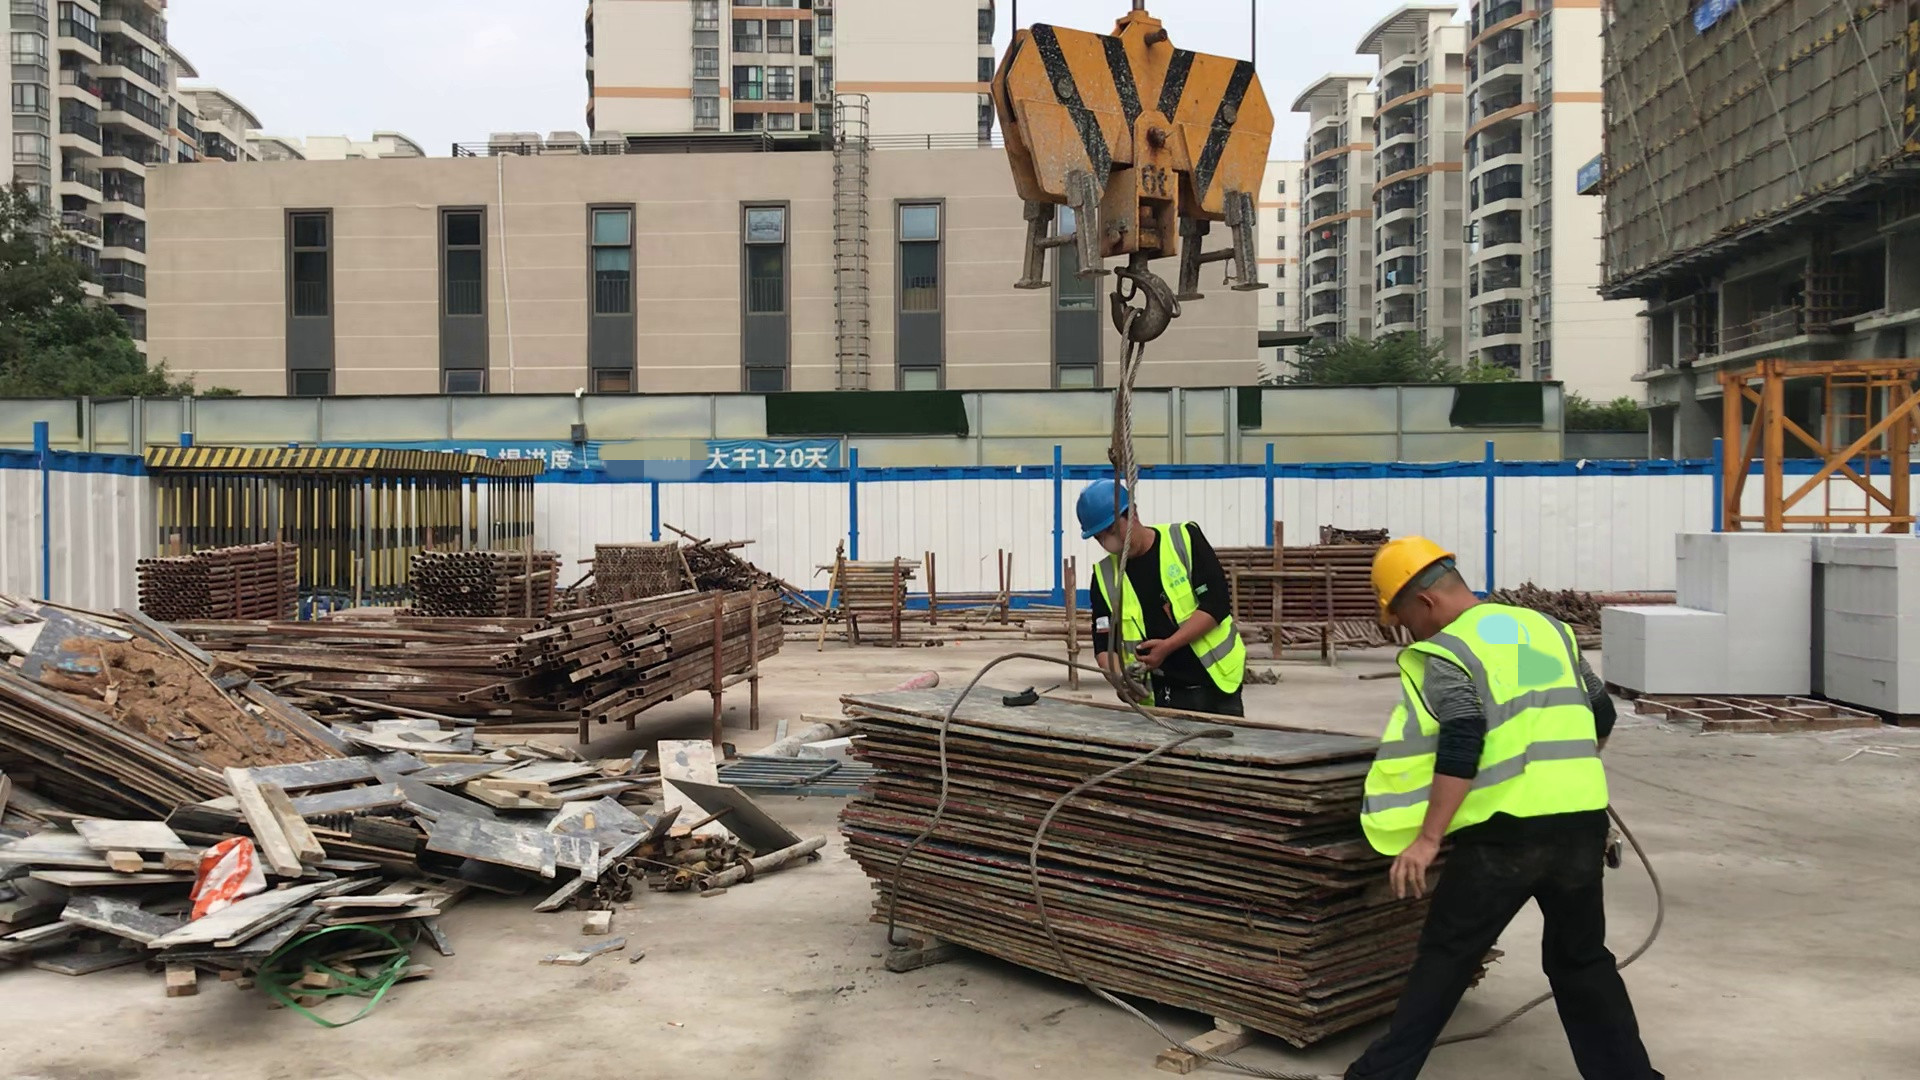board: (841, 684, 1388, 1049)
brick: (1596, 531, 1920, 717)
helmet: (1370, 536, 1454, 619), (1074, 482, 1135, 539)
hook: (980, 14, 1273, 345)
person: (1364, 532, 1662, 1080), (1062, 479, 1252, 713)
scaffold: (140, 545, 291, 624), (1222, 548, 1366, 618), (420, 550, 555, 618), (824, 561, 911, 616), (589, 544, 674, 594)
slogan: (467, 439, 839, 472)
vest: (1368, 603, 1609, 867), (1089, 522, 1246, 699)
